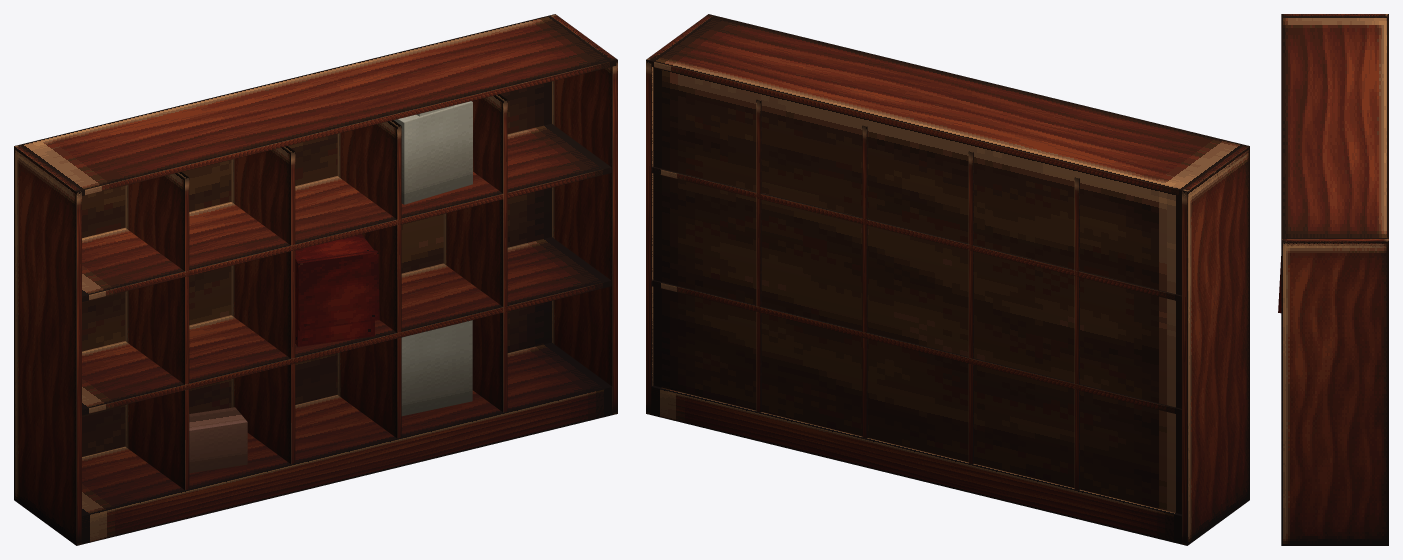
The model's file is prop_lockerrow-2.glb.
The picture shows the model from 3 angles, left to right: view 1: azimuth 30°, elevation 25°; view 2: azimuth 150°, elevation 25°; view 3: azimuth 270°, elevation 25°; orthographic projection. The views are drawn at different scales.
Visible parts, largest first — view 1: prop_lockerrow-2; view 2: prop_lockerrow-2; view 3: prop_lockerrow-2.
Part boxes in pixels (<box>): prop_lockerrow-2: <box>14,14,617,545</box>; prop_lockerrow-2: <box>646,14,1249,545</box>; prop_lockerrow-2: <box>1278,14,1388,545</box>.
Bounding box in the file's own units: 2 × 1.25 × 0.4121.
Materials: 5 (5 with a texture image).
